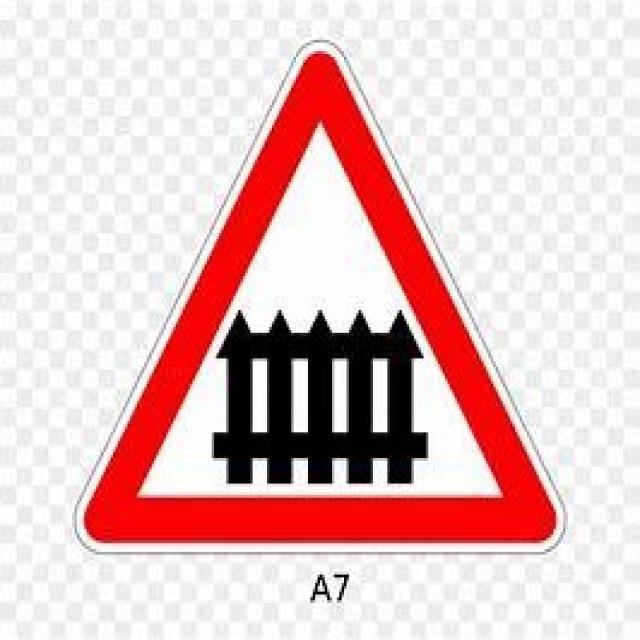guarded level crossing: (75, 39, 569, 550)
